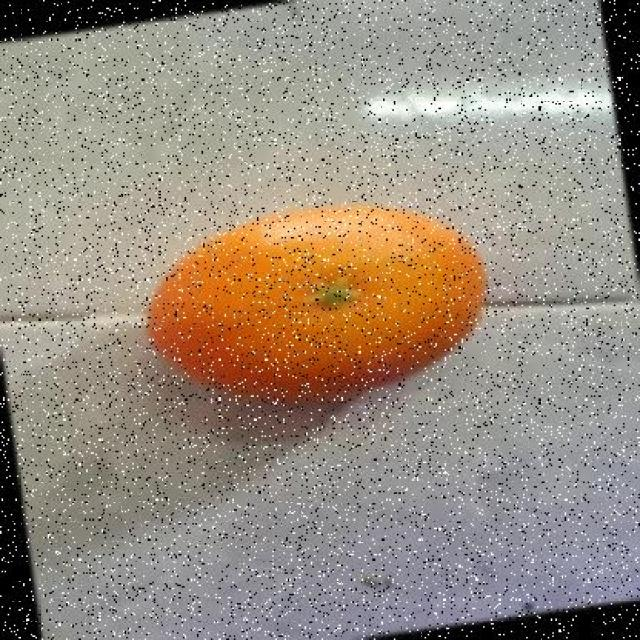Orange: (145, 200, 488, 408)
